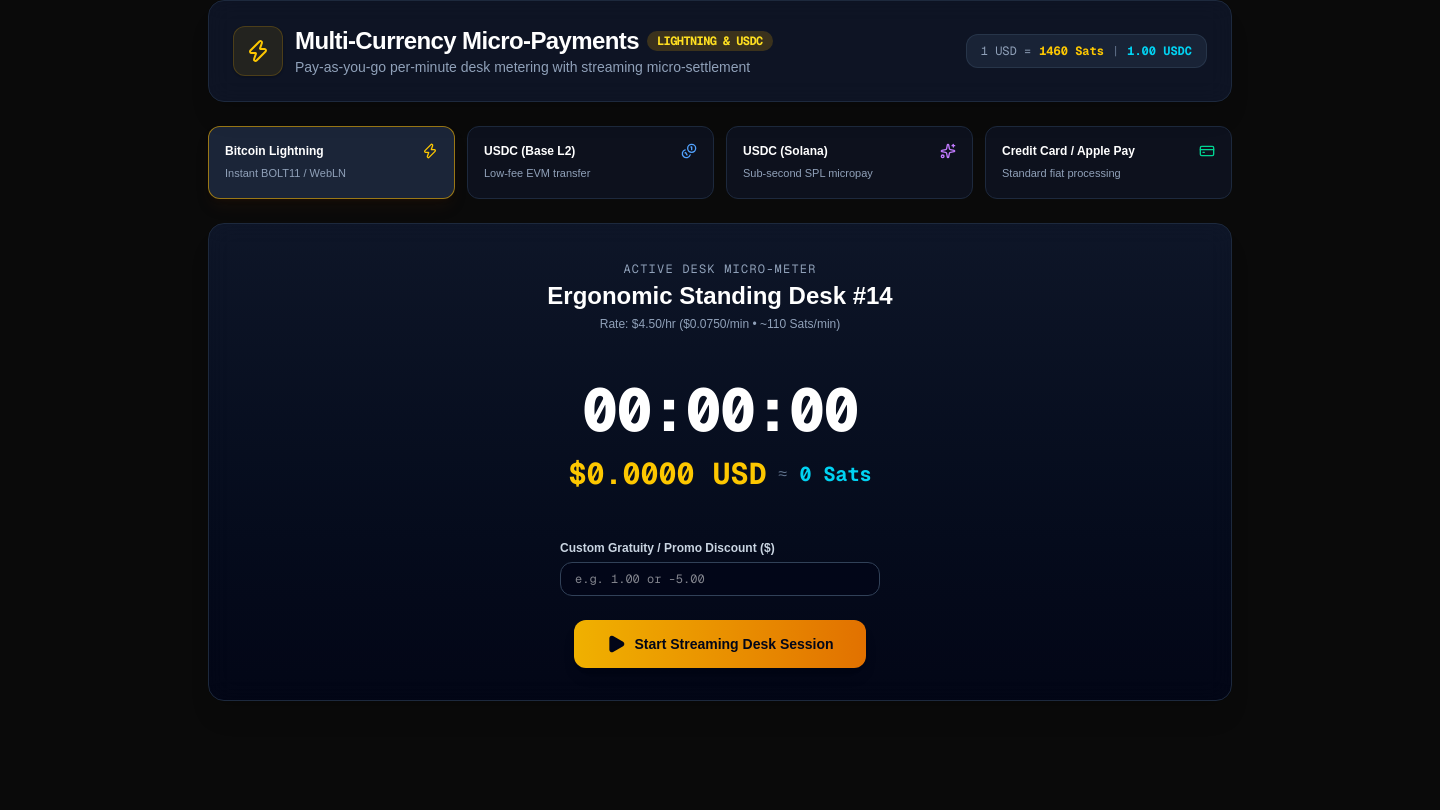
Test case: MultiCurrencyDeskCheckout - Satoshi Validation (#6156) › MultiCurrencyDeskCheckout Component UI behavior › displays validation warning and disables start session when negative discount makes satoshis < 1
This screenshot has width=1440, height=810.
Type "-5.00" into the number field with test id "custom-adjustment-input". click: (720,578)
box: [560,562,880,596]
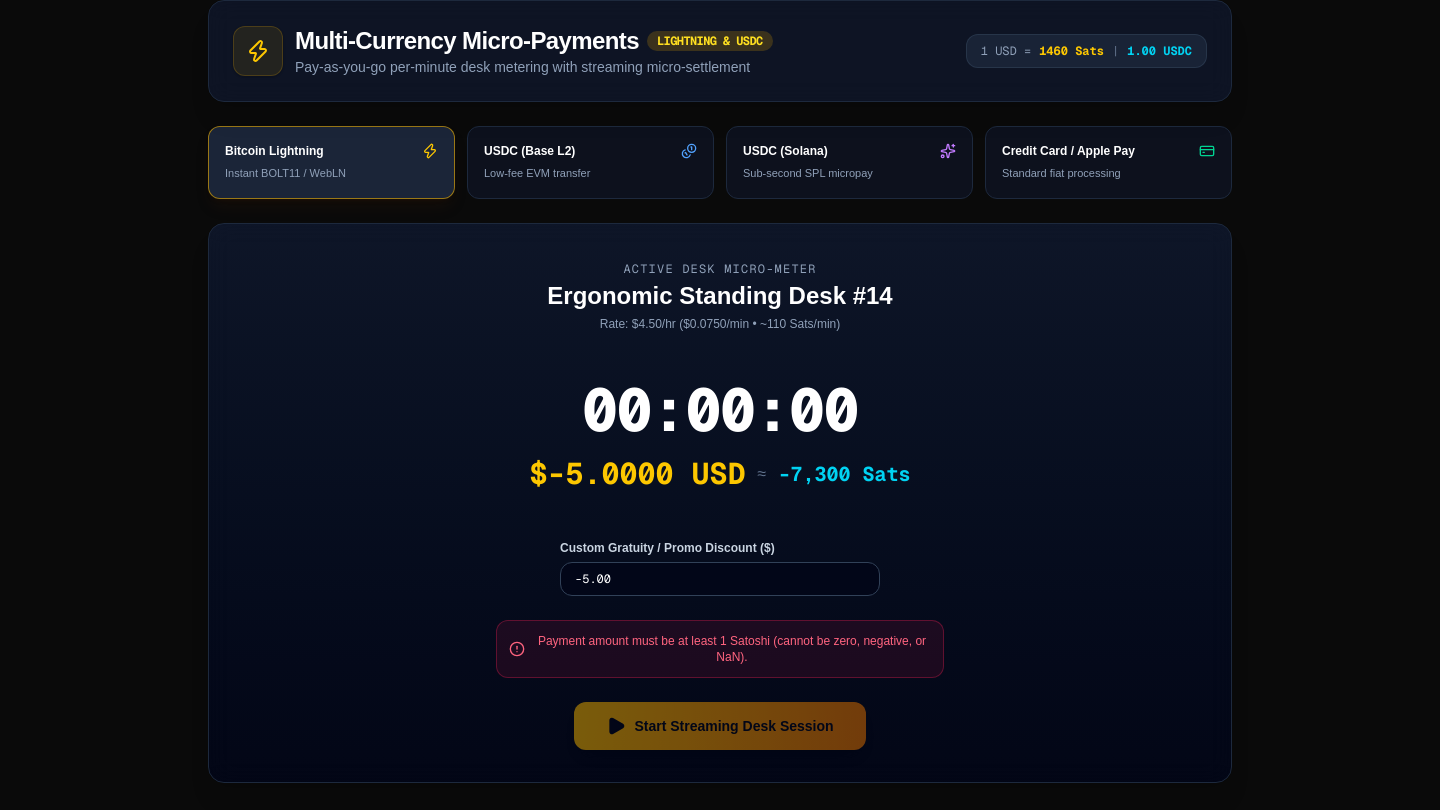
Expected: the message "Payment amount must be at least 1 Satoshi (cannot be zero, negative, or NaN)." is shown, [496,620,944,678]
Expected: the message with test id "satoshi-validation-error" shows "at least 1 Satoshi", [538,634,926,664]
Expected: the button with test id "start-session-button" is disabled, [574,702,866,750]
